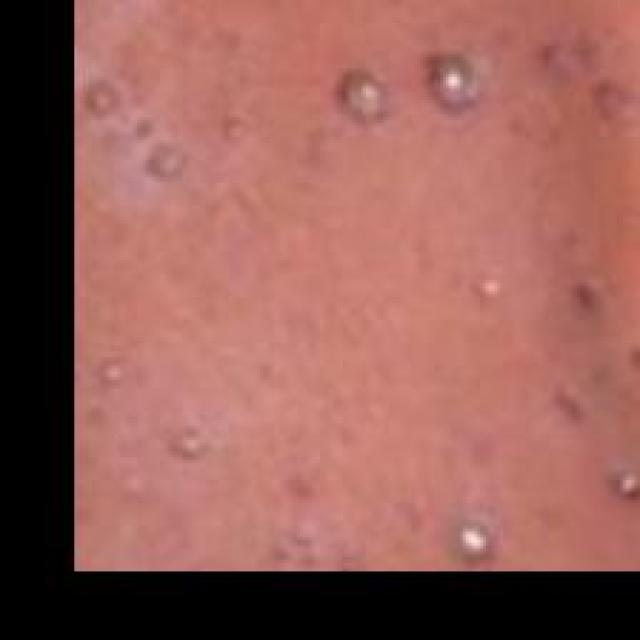others: (86, 1, 640, 574)
